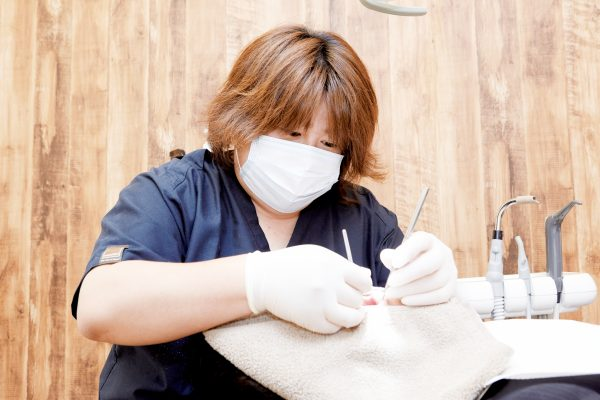mask: (238, 136, 346, 216)
